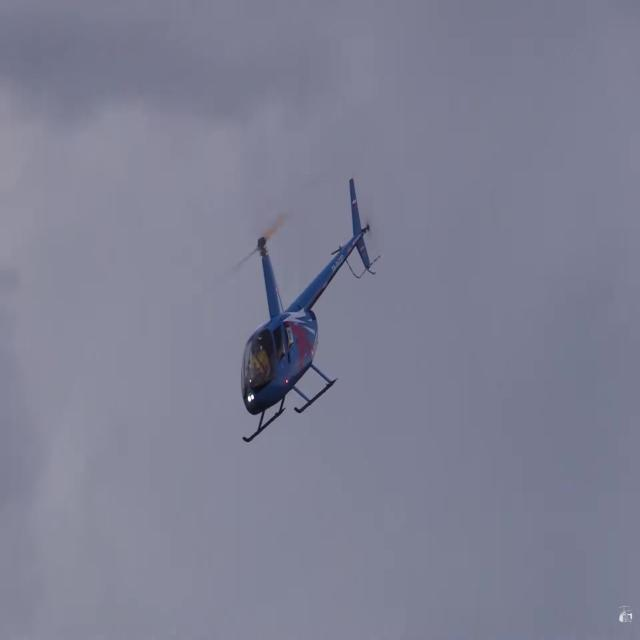CIV_HELO: (240, 175, 370, 444)
